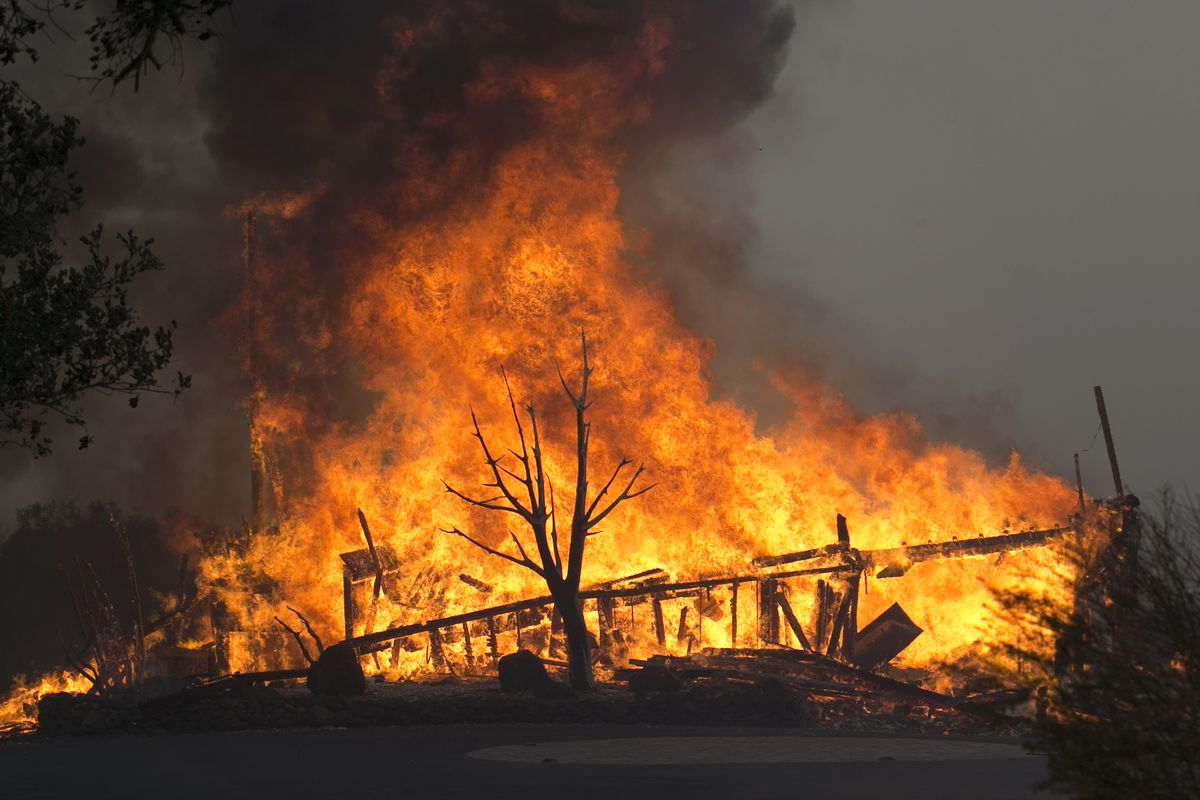fire: (184, 195, 1113, 714)
